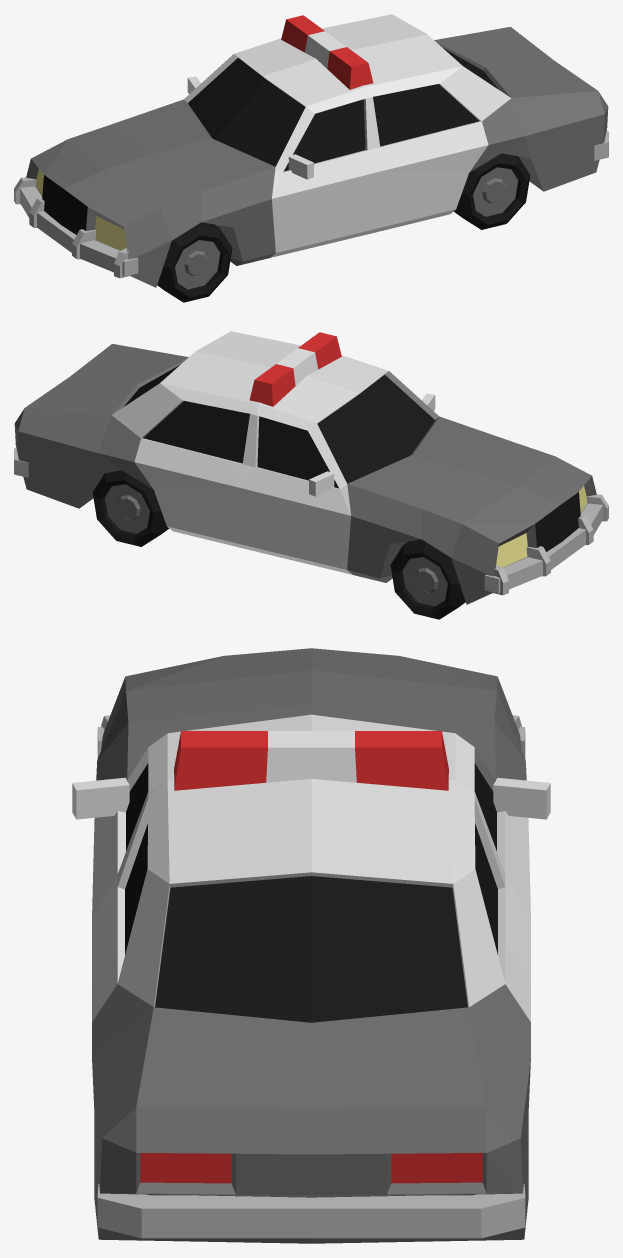
The model's file is vehicle_static_policecar.glb.
The picture shows the model from 3 angles, top to bottom: view 1: azimuth 30°, elevation 25°; view 2: azimuth 150°, elevation 25°; view 3: azimuth 270°, elevation 25°; orthographic projection. The views are drawn at different scales.
Visible parts, largest first — view 1: WheelP-4; view 2: WheelP-4; view 3: WheelP-4.
Boxes of the visible parts, <box> form: WheelP-4: <box>14,14,608,302</box>; WheelP-4: <box>14,331,608,619</box>; WheelP-4: <box>72,648,550,1243</box>.
Bounding box in the file's own units: 4.83 × 1.62 × 1.95.
4 materials, 4 textured.
